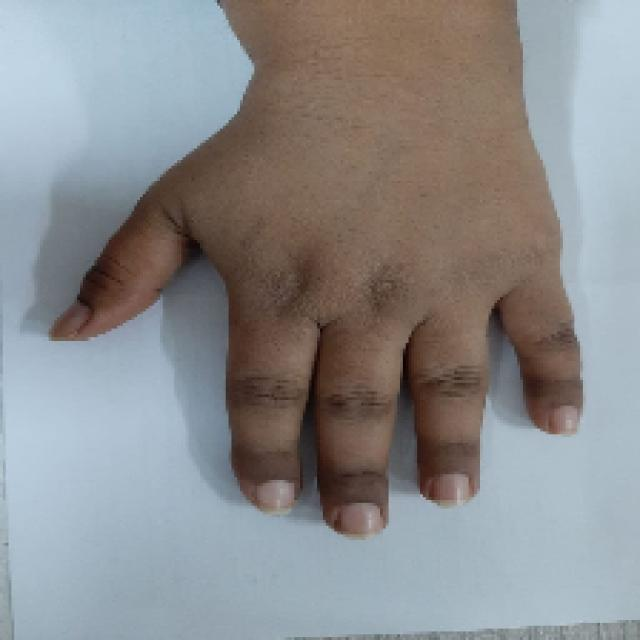Nail: (335, 502, 382, 539), (46, 303, 92, 339), (431, 472, 471, 509), (256, 480, 295, 515), (549, 405, 581, 436)
